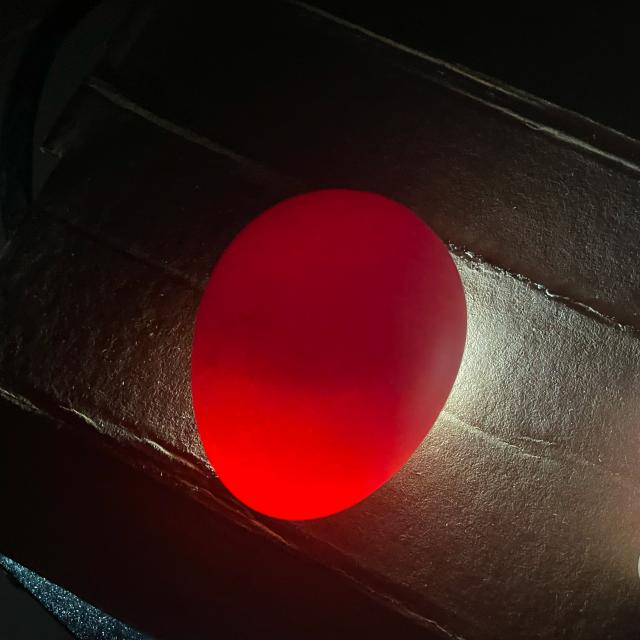fertile: (191, 190, 467, 520)
